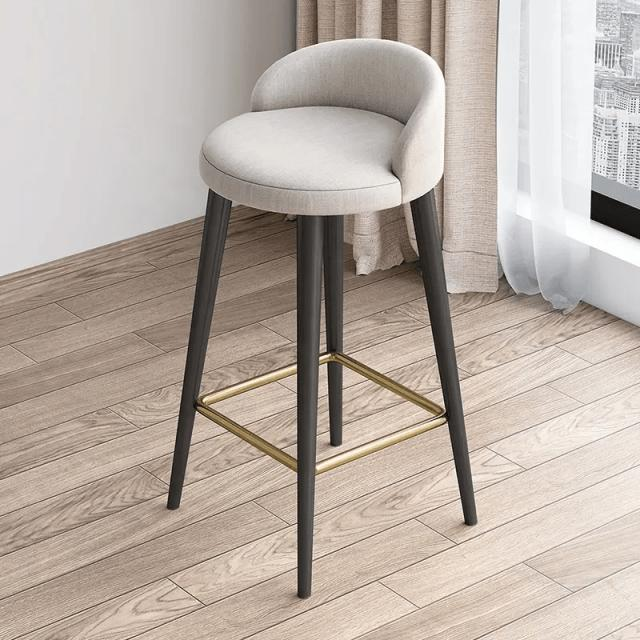chair: (166, 36, 478, 598)
